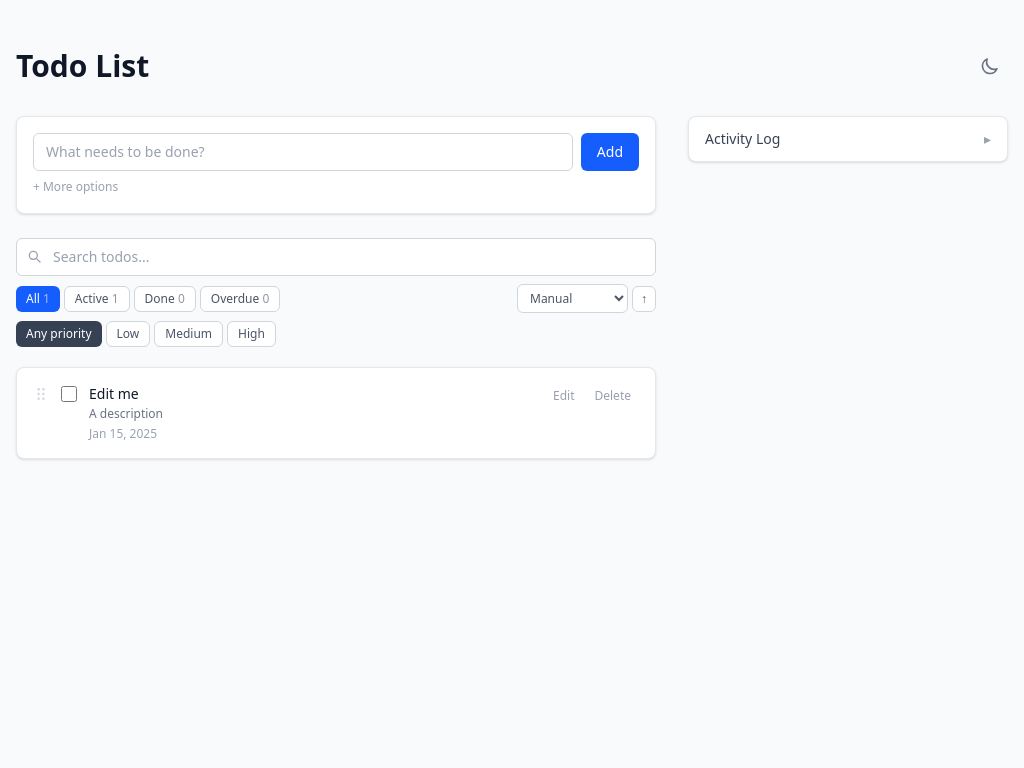
App › enters edit mode when clicking edit
Click the button "Edit" at [564, 396], box [545,384,582,408]
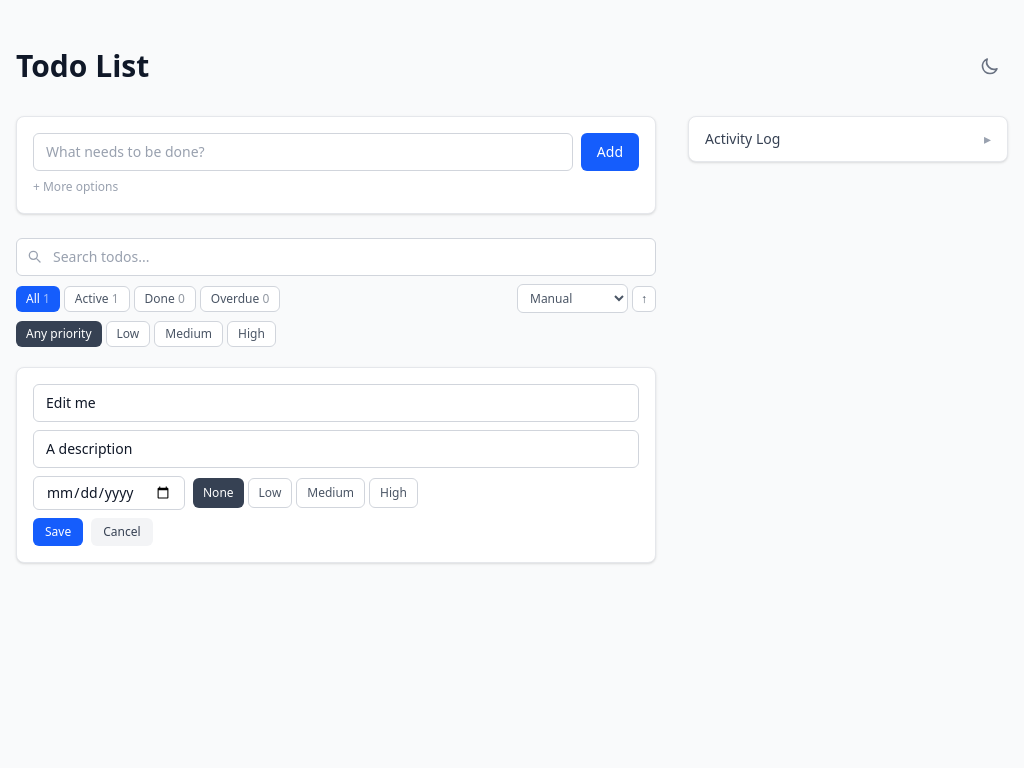
Expected: the text "Save" is shown, [33,518,83,546]
Expected: the text "Cancel" is shown, [91,518,153,546]
